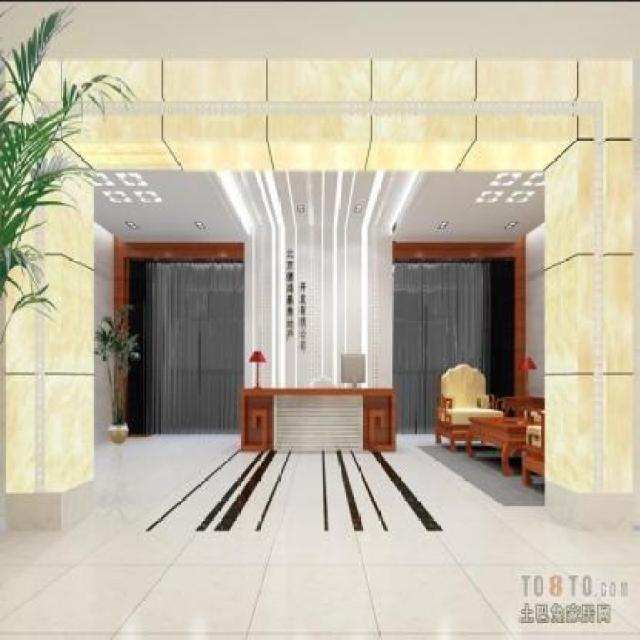frontdesk: (234, 376, 403, 458)
